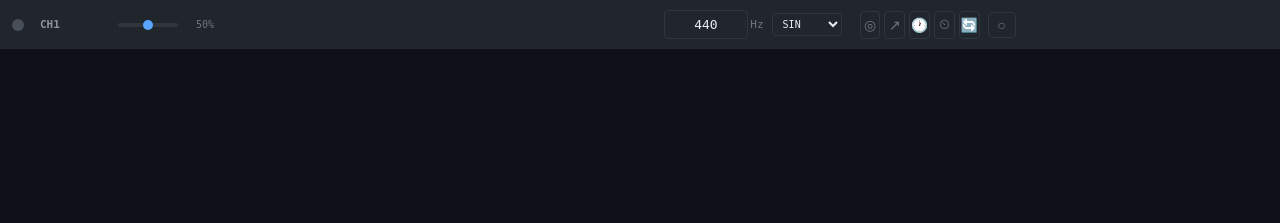
Test: Channel Component › expands PULSE settings when clicked
Нажимаем на кнопку PULSE
Click the button "◎" at {"x": 870, "y": 24}, box 860,10 -> 880,38
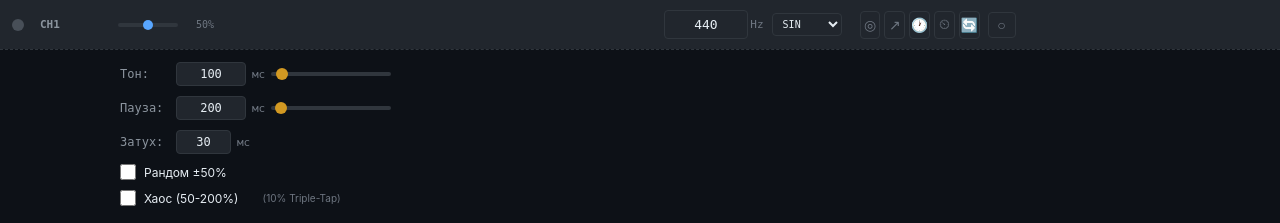
Result: the text "Тон:" is shown at 120,67 -> 149,81
Result: the text "Пауза:" is shown at 120,101 -> 170,115
